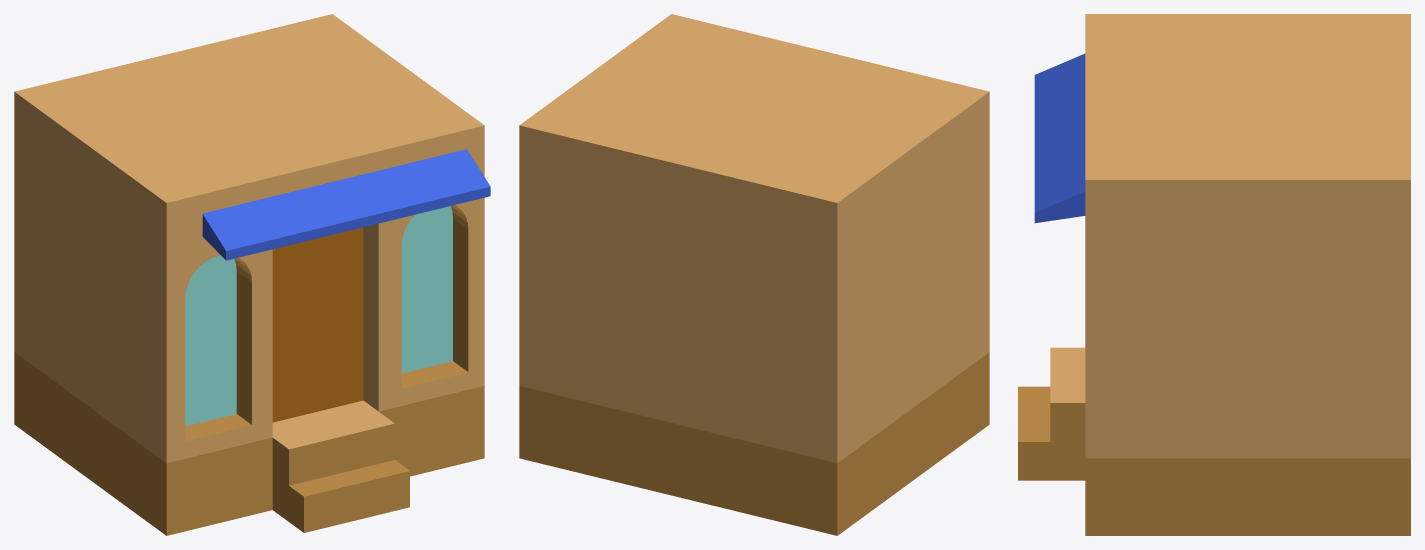
Rendered from Building Base6.fbx.
The picture shows the model from 3 angles, left to right: view 1: azimuth 30°, elevation 25°; view 2: azimuth 150°, elevation 25°; view 3: azimuth 270°, elevation 25°; orthographic projection. The views are drawn at different scales.
Parts seen in each view (by area): view 1: base7; view 2: base7; view 3: base7.
Boxes of the visible parts, box(x1,y1,x2,y2) form: base7: box(14, 14, 490, 535); base7: box(519, 14, 989, 535); base7: box(1018, 14, 1410, 535).
Bounding box in the file's own units: 300 × 300 × 300.
